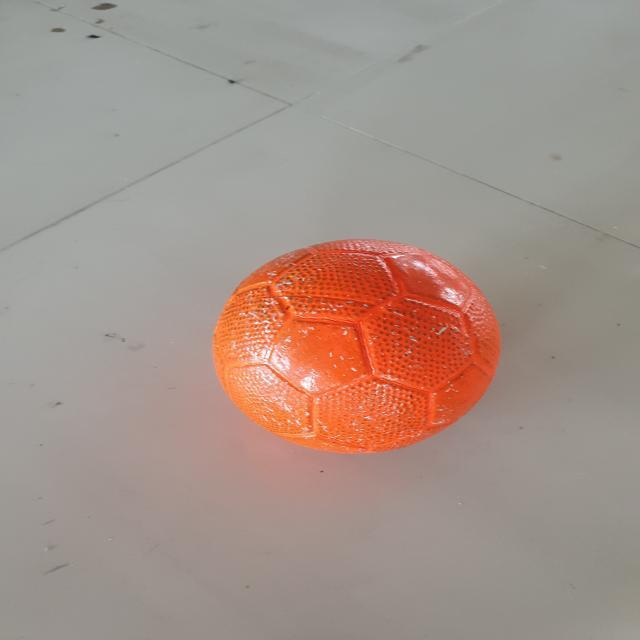bola: (207, 234, 514, 461)
